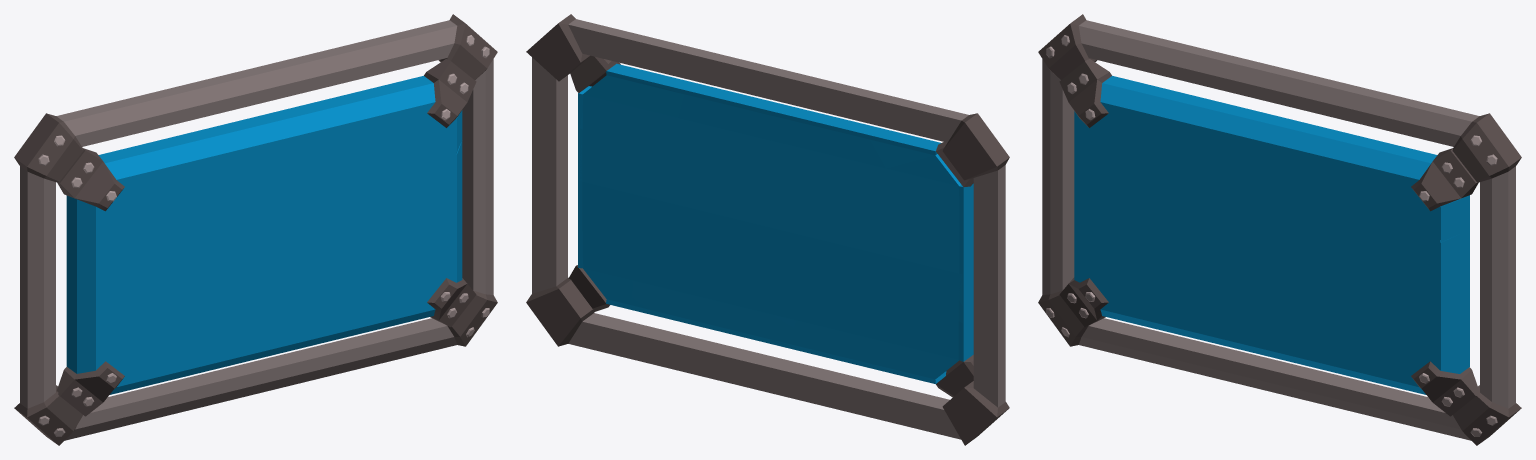
Rendered from ENV_Object_Panel_01.fbx.
3 renders of one model, left to right at view 1: azimuth 30°, elevation 25°; view 2: azimuth 150°, elevation 25°; view 3: azimuth 330°, elevation 25°, orthographic.
Parts seen in each view (by area): view 1: ENV_Object_Panel_01_Panel, ENV_Object_Panel_01_Frame, polySurface68, polySurface70, polySurface65, polySurface67, polySurface72, polySurface73, polySurface63; view 2: ENV_Object_Panel_01_Panel, ENV_Object_Panel_01_Frame, polySurface68, polySurface72, polySurface67, polySurface65, polySurface70, polySurface63; view 3: ENV_Object_Panel_01_Panel, ENV_Object_Panel_01_Frame, polySurface68, polySurface65, polySurface70, polySurface67, polySurface72, polySurface73, polySurface63.
Boxes of the visible parts, x1=… form: ENV_Object_Panel_01_Panel: x1=66, y1=75, x2=458, y2=390; ENV_Object_Panel_01_Frame: x1=14, y1=14, x2=497, y2=445; polySurface68: x1=273, y1=140, x2=462, y2=352; polySurface70: x1=96, y1=249, x2=276, y2=394; polySurface65: x1=106, y1=117, x2=255, y2=285; polySurface67: x1=254, y1=95, x2=376, y2=223; polySurface72: x1=345, y1=87, x2=462, y2=183; polySurface73: x1=96, y1=258, x2=227, y2=334; polySurface63: x1=96, y1=142, x2=169, y2=293; ENV_Object_Panel_01_Panel: x1=578, y1=63, x2=973, y2=384; ENV_Object_Panel_01_Frame: x1=526, y1=14, x2=1009, y2=445; polySurface68: x1=578, y1=127, x2=770, y2=339; polySurface72: x1=578, y1=64, x2=687, y2=129; polySurface67: x1=678, y1=89, x2=804, y2=233; polySurface65: x1=779, y1=107, x2=885, y2=168; polySurface70: x1=770, y1=314, x2=962, y2=377; polySurface63: x1=870, y1=135, x2=962, y2=306; ENV_Object_Panel_01_Panel: x1=1074, y1=75, x2=1458, y2=393; ENV_Object_Panel_01_Frame: x1=1038, y1=14, x2=1521, y2=445; polySurface68: x1=1261, y1=226, x2=1469, y2=394; polySurface65: x1=1090, y1=93, x2=1269, y2=227; polySurface70: x1=1080, y1=241, x2=1262, y2=351; polySurface67: x1=1239, y1=115, x2=1356, y2=240; polySurface72: x1=1344, y1=140, x2=1469, y2=239; polySurface73: x1=1080, y1=202, x2=1192, y2=247; polySurface63: x1=1080, y1=90, x2=1179, y2=201.
Bounding box in the file's own units: 244 × 160 × 27.12.
